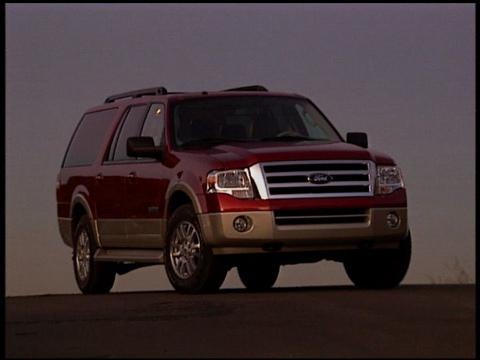Car: (50, 74, 428, 303)
